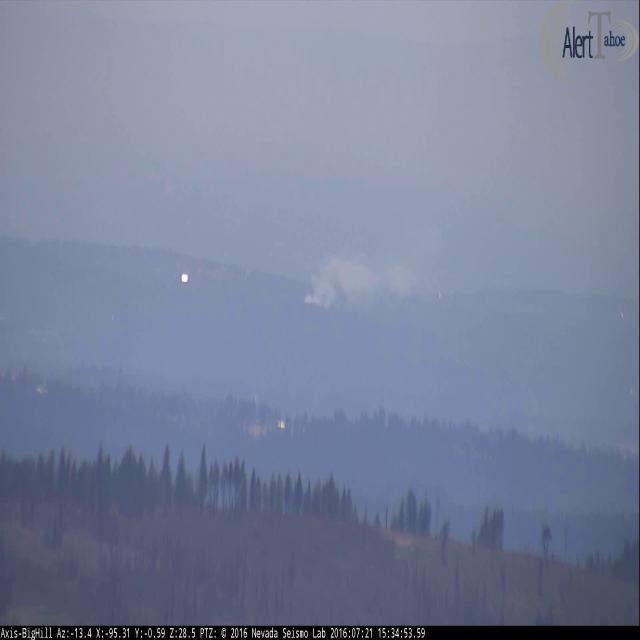smoke: (302, 222, 535, 314)
